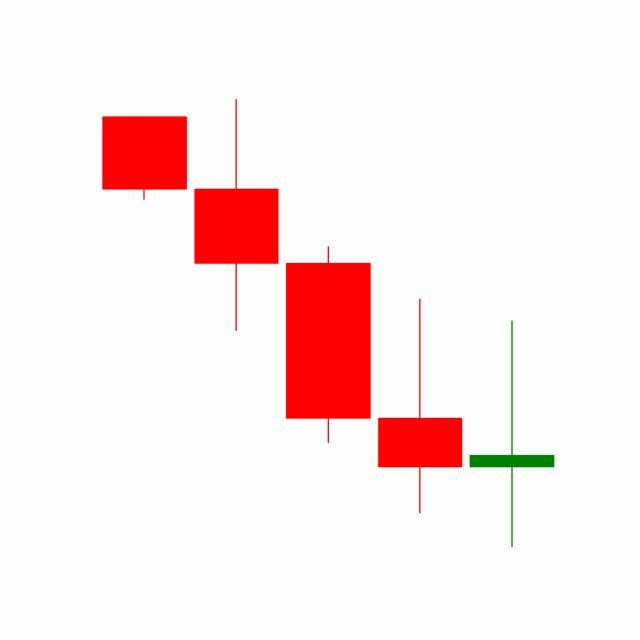Spinning Top: (466, 318, 559, 551)
